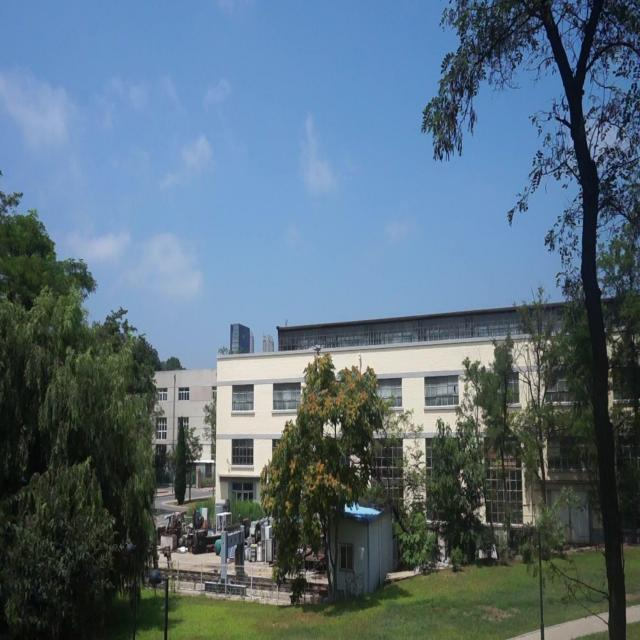UAV: (313, 344, 324, 356)
